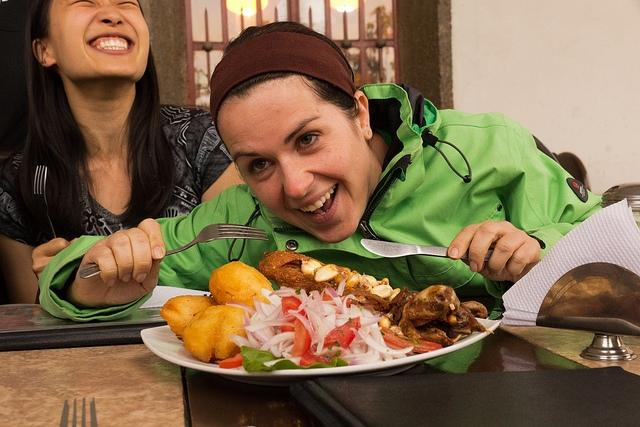tomato: (300, 316, 361, 367), (281, 296, 306, 333), (292, 317, 312, 357), (219, 354, 244, 370), (416, 338, 442, 350)
